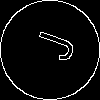J: (25, 25, 77, 64)
